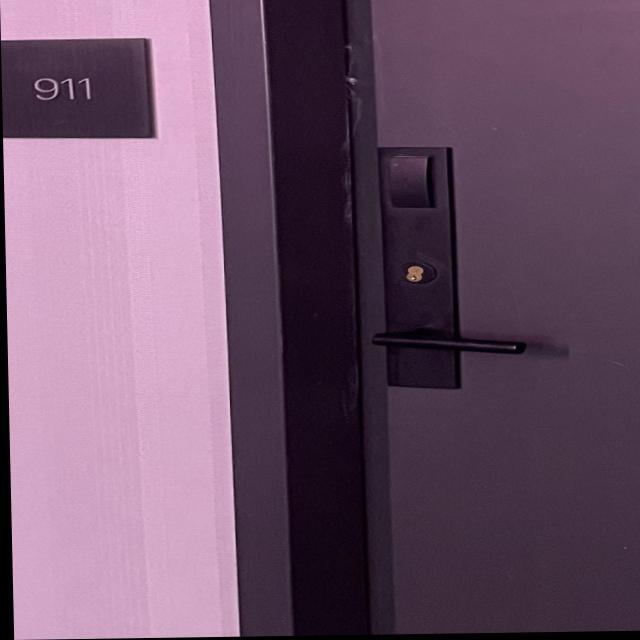door_handle: (336, 313, 553, 374)
